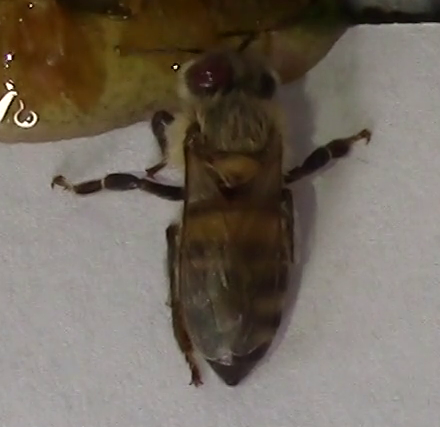Varroa destructor: (183, 53, 240, 96)
